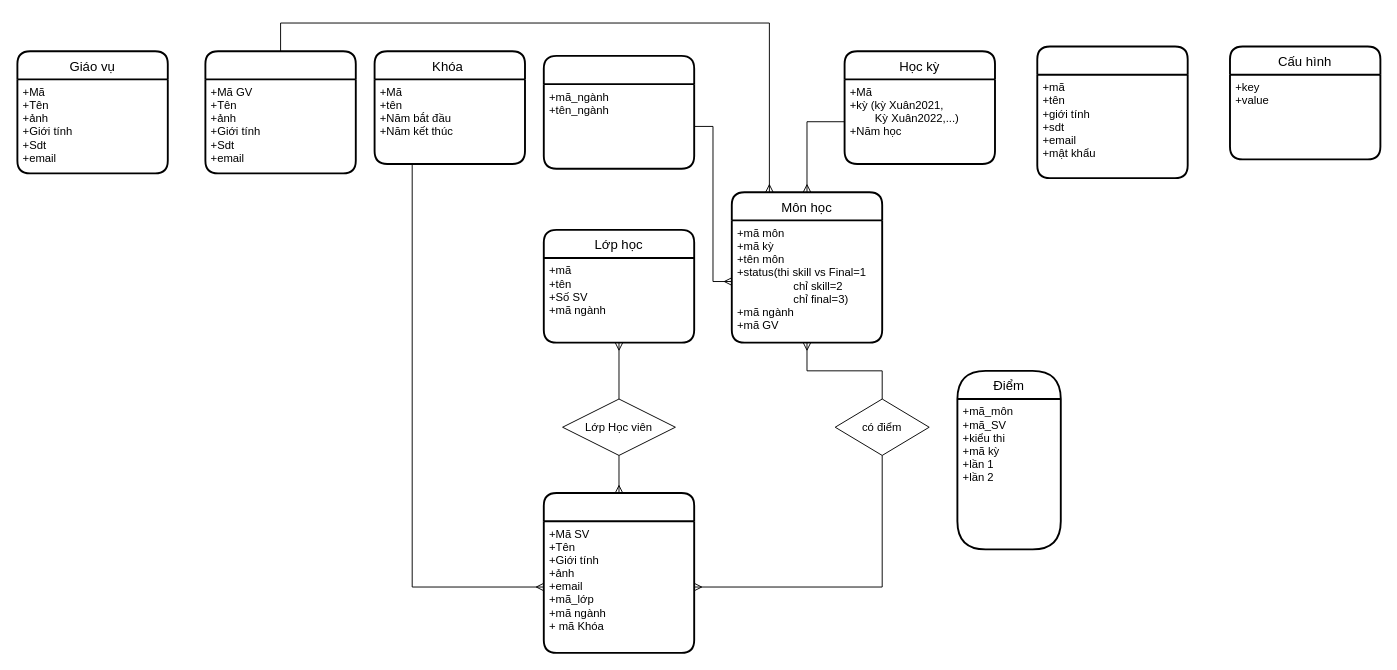
Some shapes in this 1397 by 670 pixel diagram are drawn without their labels. The box of each missing label's shape, as (x1, y1, x2, y2) in pixels:
Giáo viên: (204, 50, 356, 174)
Học viên: (542, 492, 695, 653)
Ngành học: (542, 55, 695, 169)
Quản trị viên: (1036, 45, 1188, 179)
